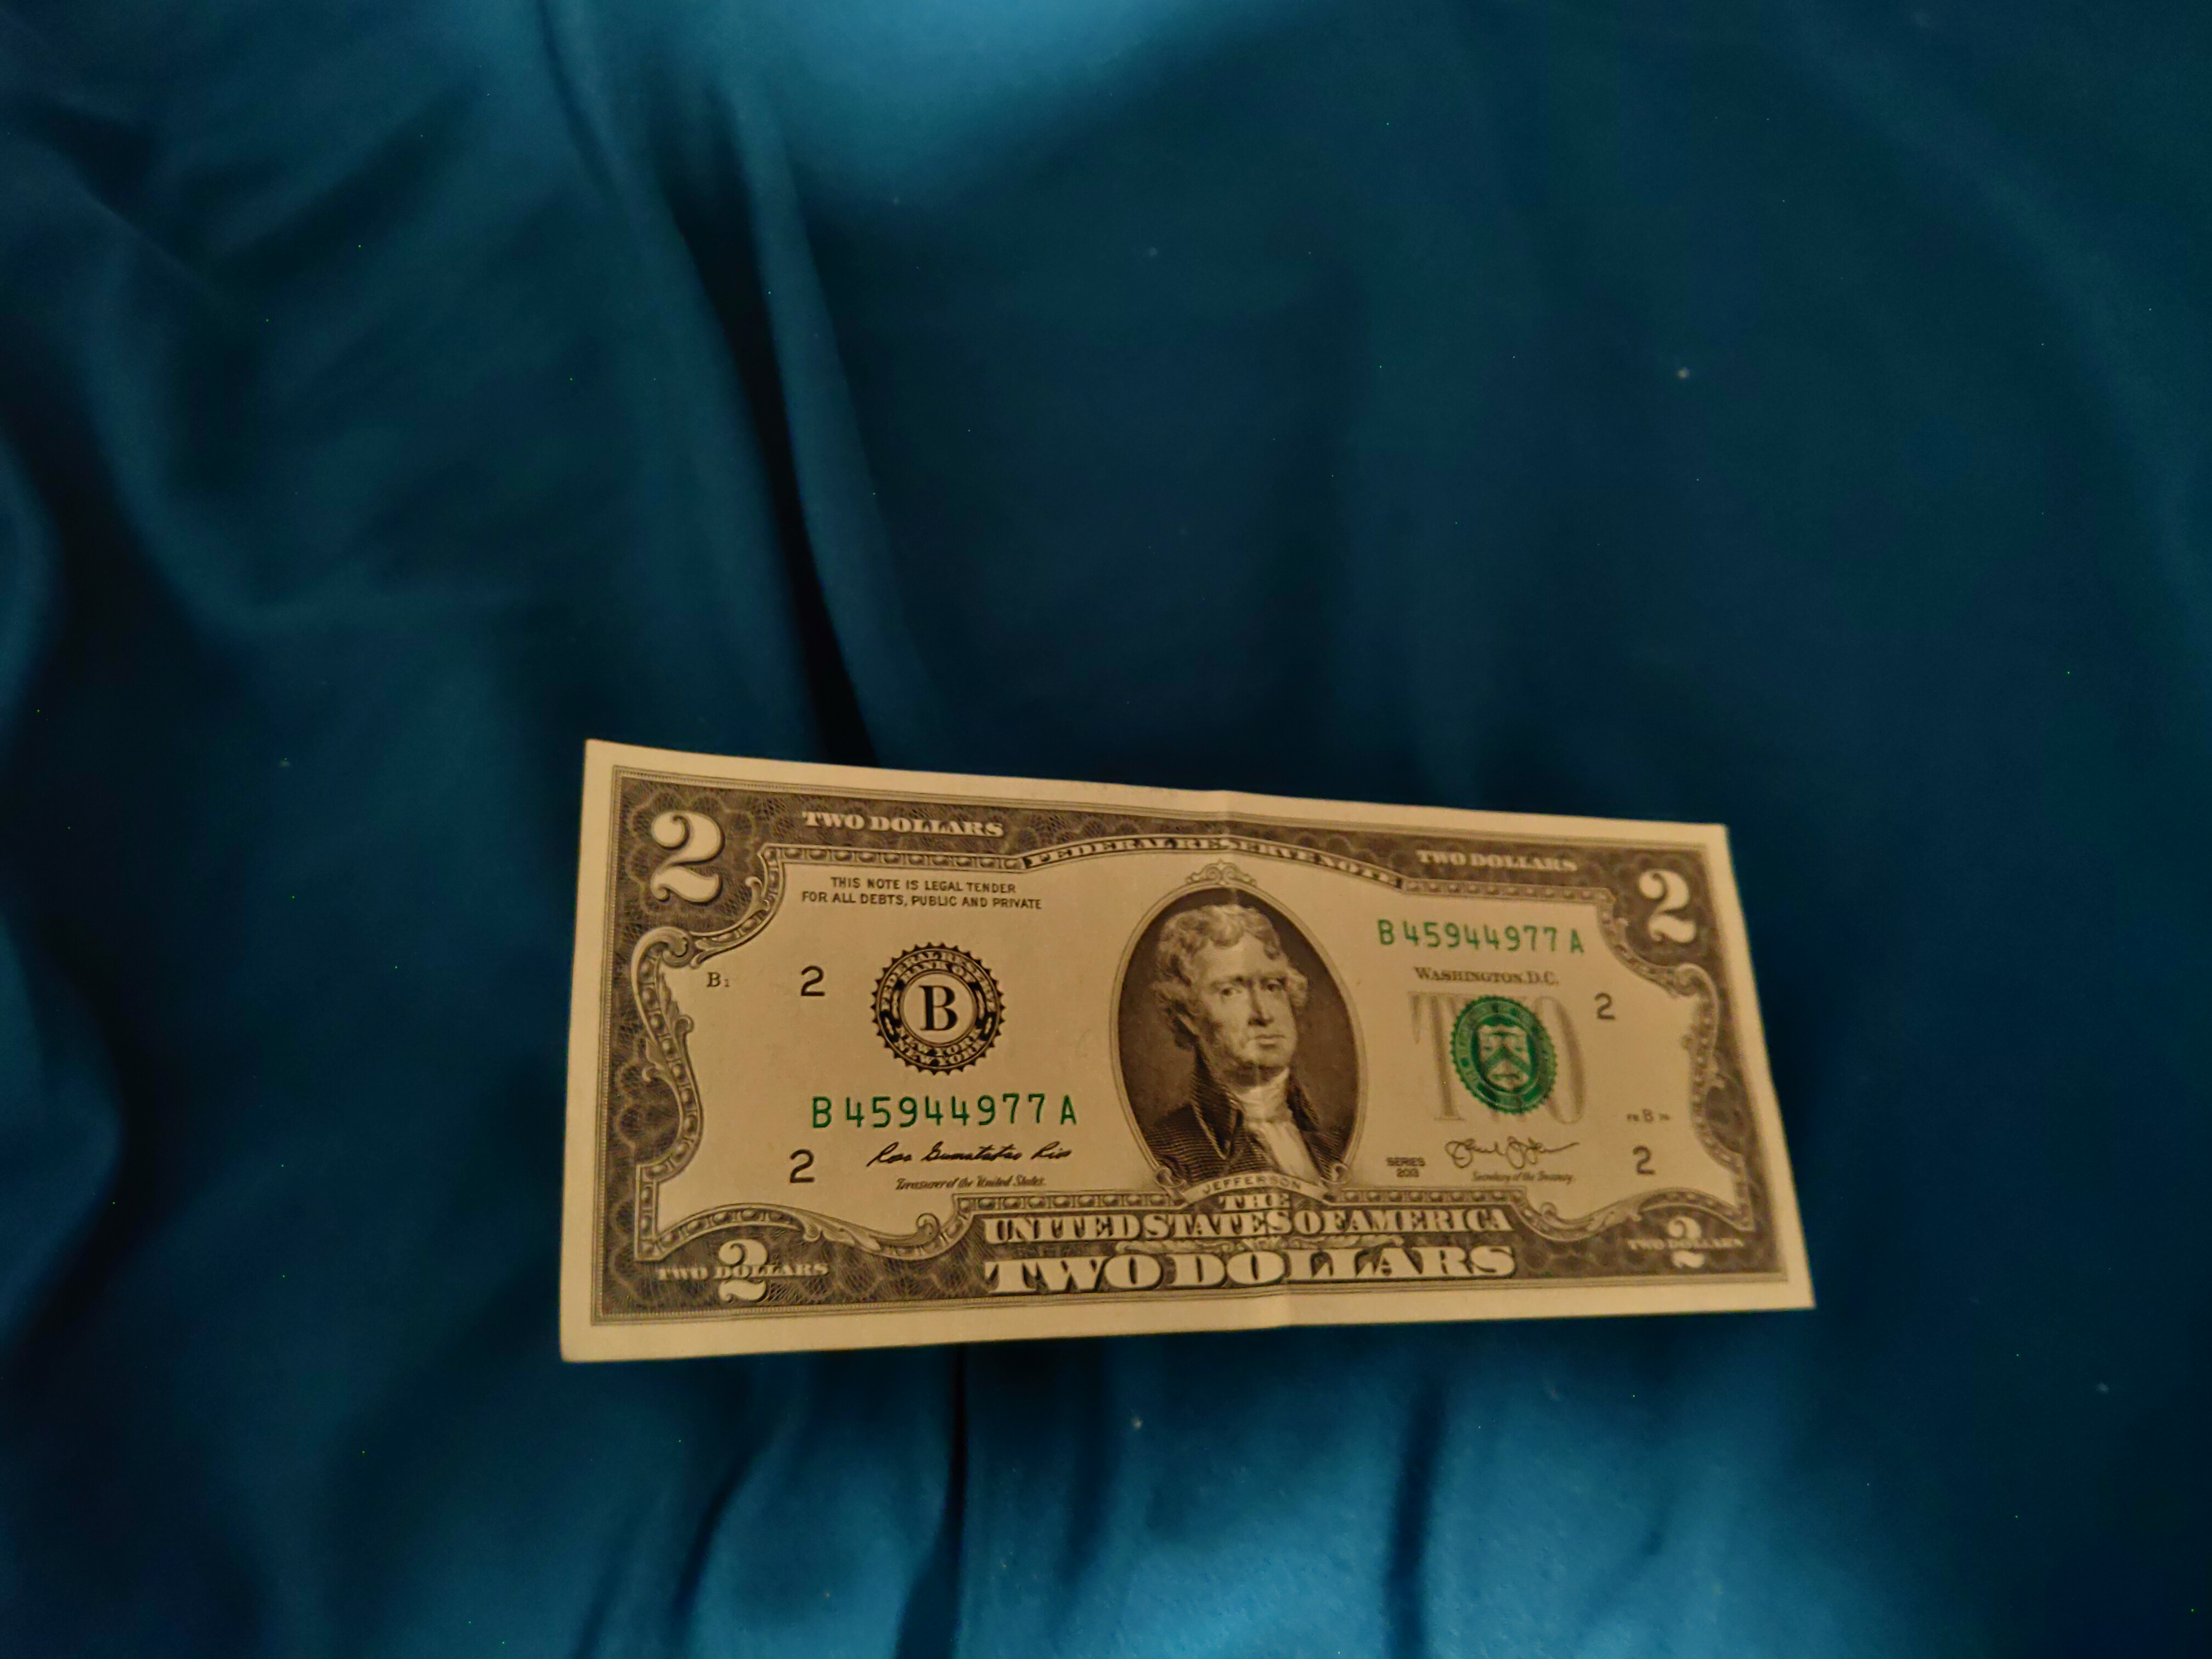TwoBill: (554, 735, 1824, 1368)
